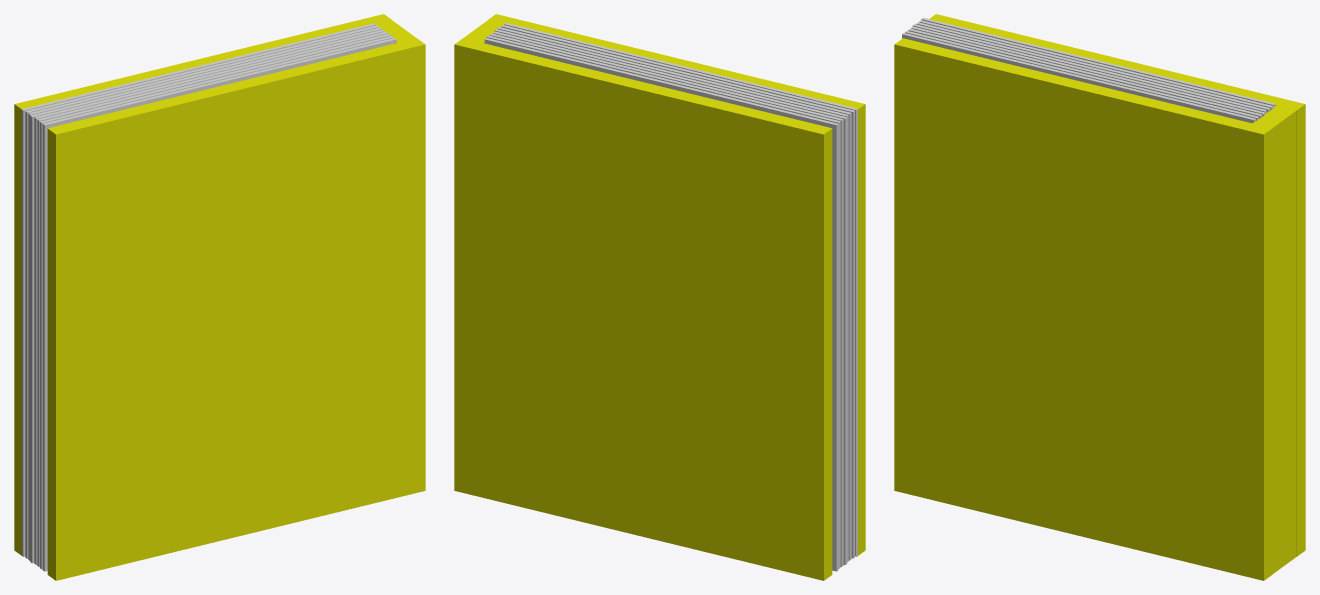
File: book6.fbx
The picture shows the model from 3 angles, left to right: view 1: azimuth 30°, elevation 25°; view 2: azimuth 150°, elevation 25°; view 3: azimuth 330°, elevation 25°; orthographic projection.
Visible parts, largest first — view 1: Cube.001; view 2: Cube.001; view 3: Cube.001.
Boxes of the visible parts, x1,y1,x2,y2 form: Cube.001: (14, 14, 425, 580); Cube.001: (454, 14, 865, 580); Cube.001: (894, 14, 1305, 580).
Size of the model in its own units: 567 by 654 by 110.
